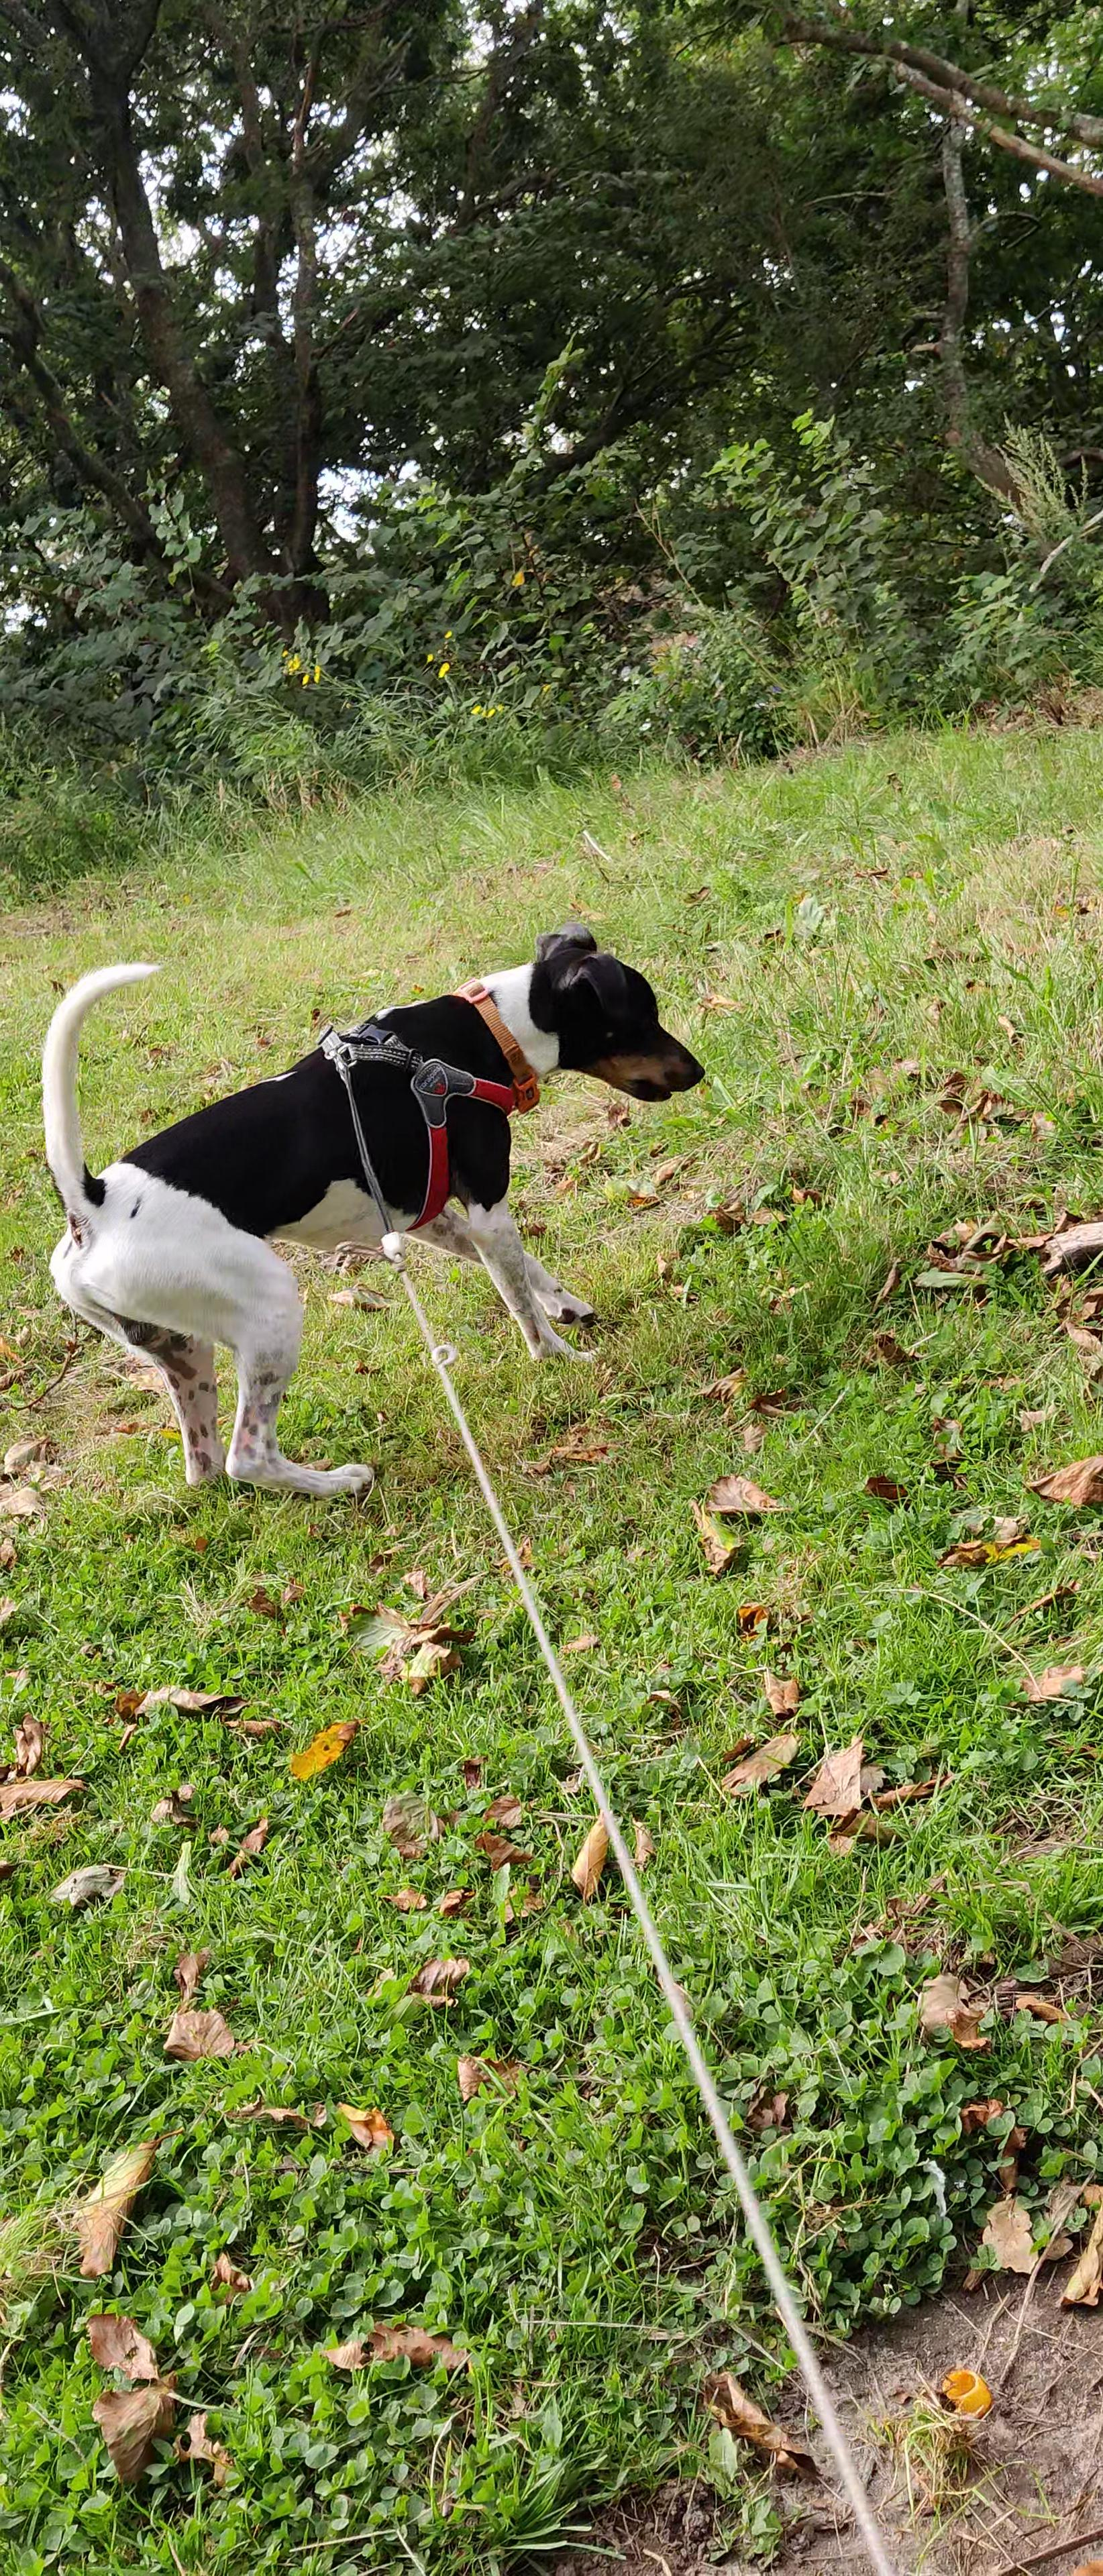Dog: (30, 918, 712, 1513)
